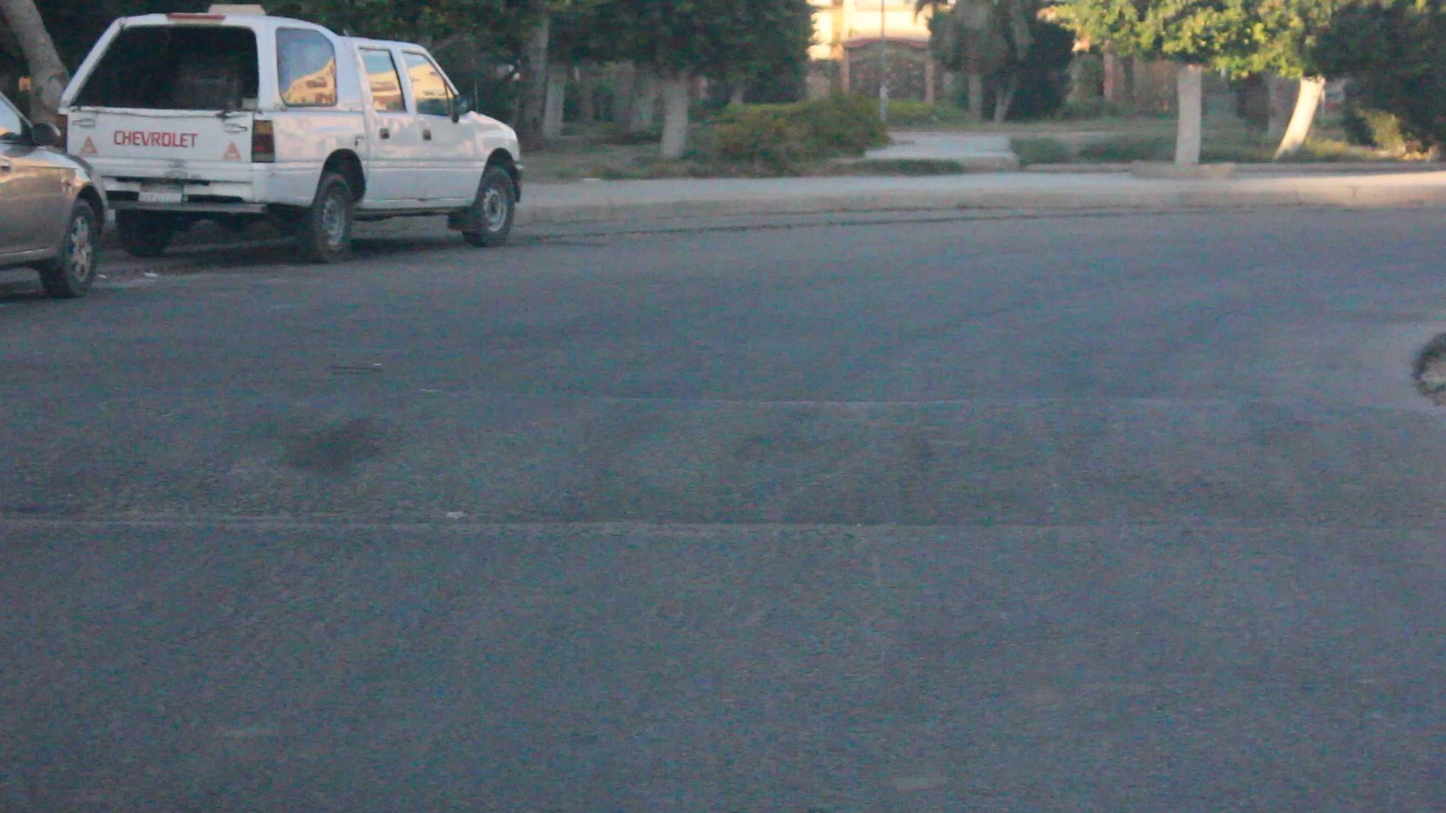Bump: (47, 376, 1446, 534)
